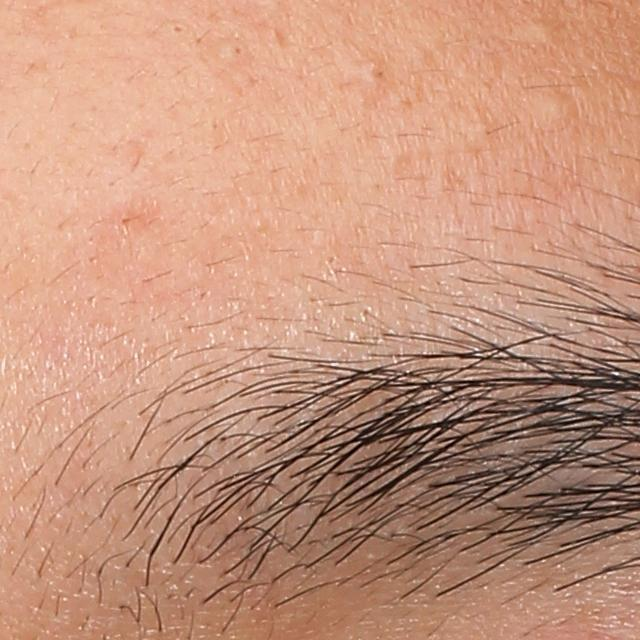comedo: (529, 88, 583, 131), (524, 19, 559, 45), (357, 58, 380, 88), (225, 44, 251, 61), (168, 20, 191, 38)
